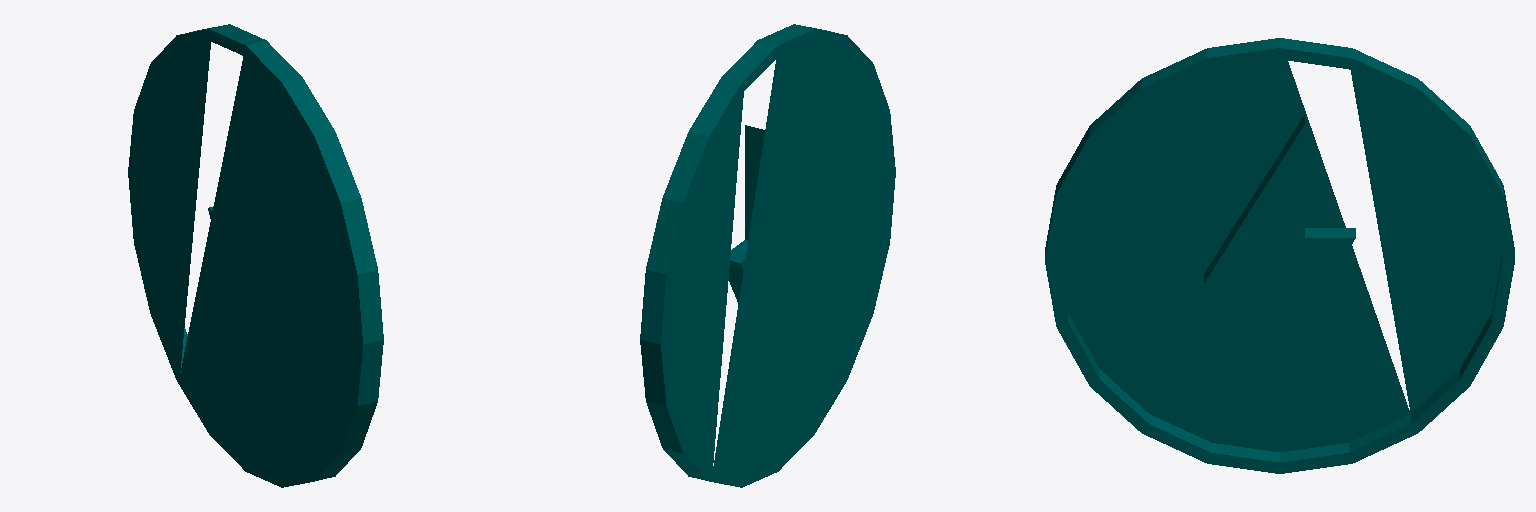
File: fuelPickup.obj
3 views of the same model, side by side, from view 1: azimuth 30°, elevation 25°; view 2: azimuth 150°, elevation 25°; view 3: azimuth 270°, elevation 25° (orthographic).
Visible parts, largest first — view 1: pCylinder17; view 2: pCylinder17, pCube3; view 3: pCylinder17, pCube3.
Boxes of the visible parts, <box> form: pCylinder17: <box>128,24,383,487</box>; pCylinder17: <box>640,24,895,487</box>; pCube3: <box>729,125,764,303</box>; pCylinder17: <box>1045,38,1514,473</box>; pCube3: <box>1204,115,1355,396</box>.
Bounding box in the file's own units: 8.05 × 158 × 158.